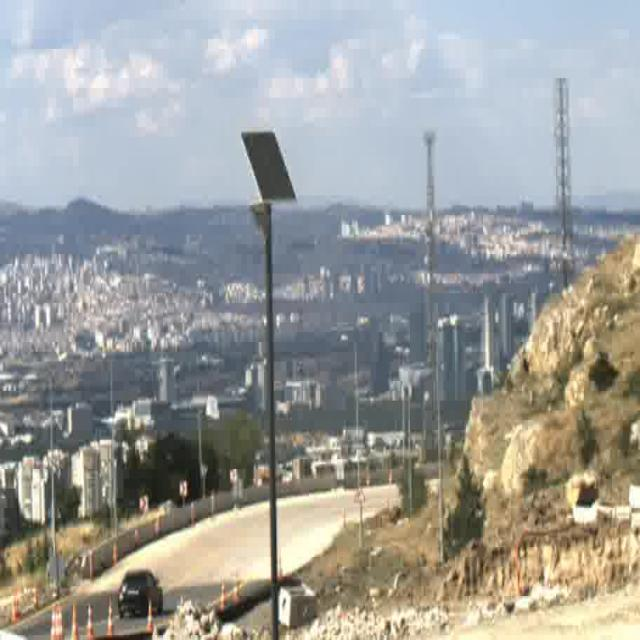Car: (118, 569, 163, 615)
